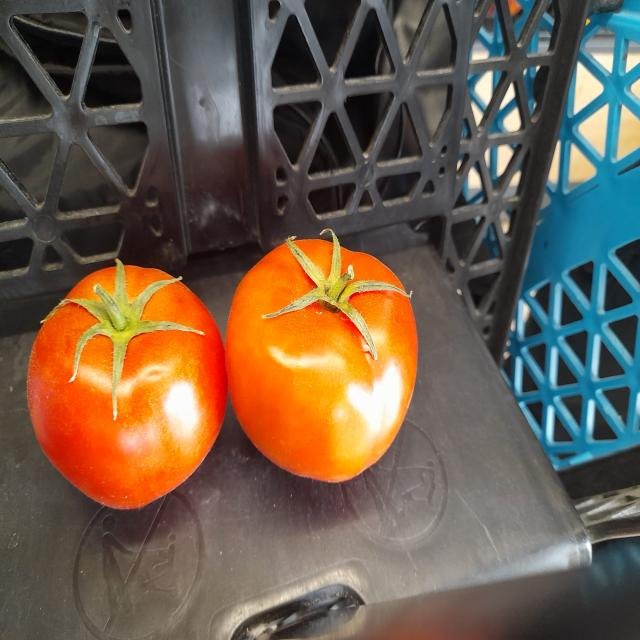tomato: (227, 219, 428, 486), (24, 250, 226, 506)
